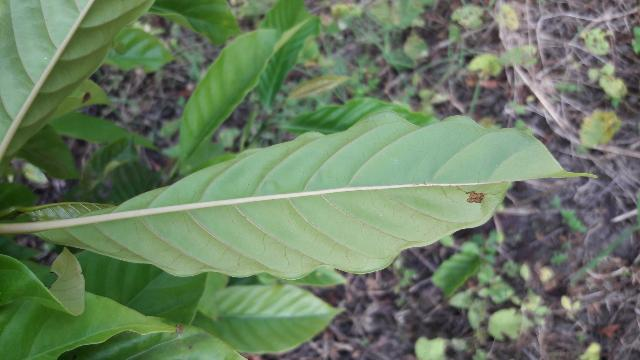red_spider_mite: (17, 111, 578, 280)
